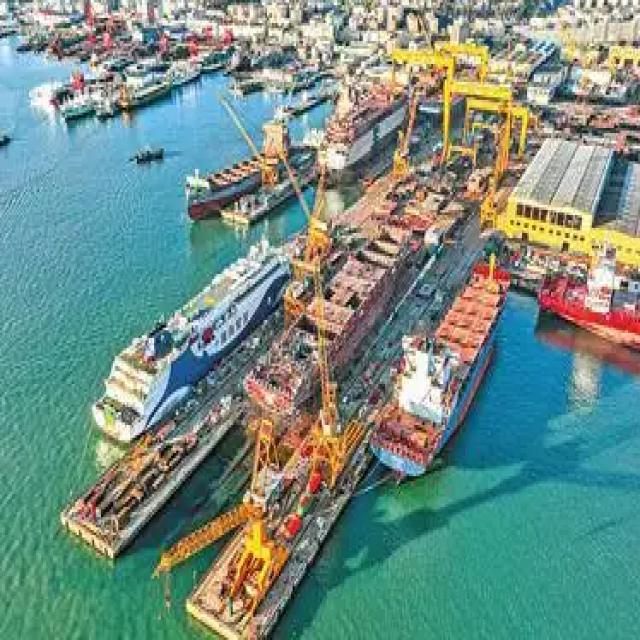cargoship: (90, 243, 289, 435), (364, 253, 510, 477), (535, 253, 640, 360), (183, 121, 293, 222), (119, 80, 174, 109), (132, 142, 168, 164), (0, 128, 14, 146)
